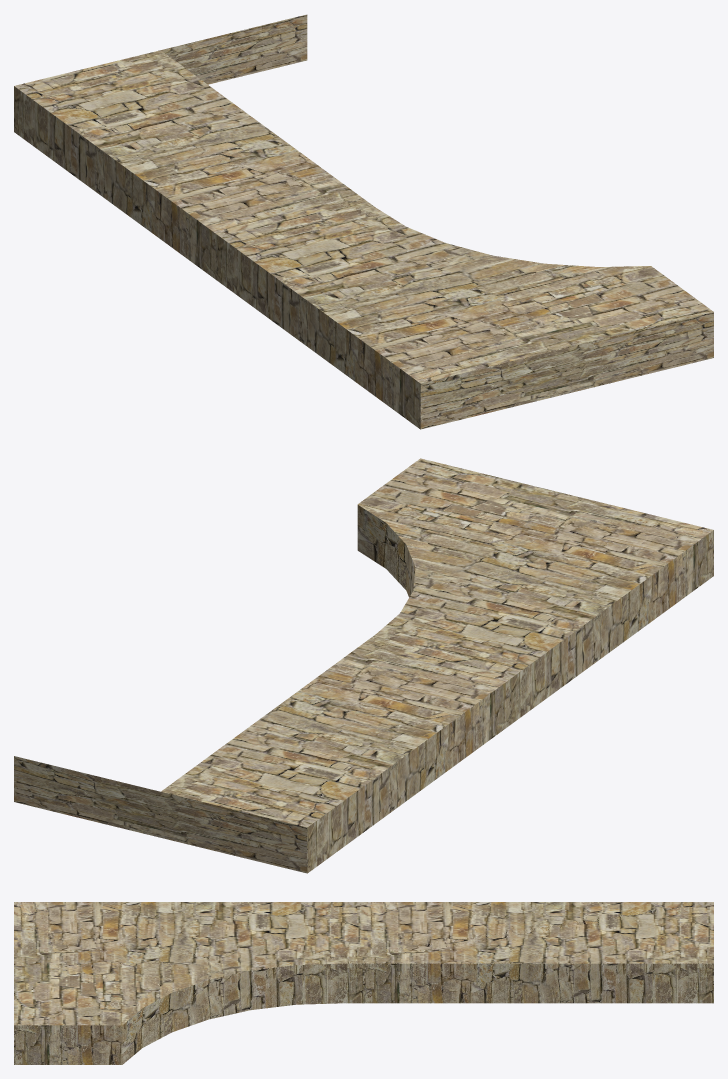
Rendered from walldoorR.obj.
3 renders of one model, top to bottom at view 1: azimuth 30°, elevation 25°; view 2: azimuth 150°, elevation 25°; view 3: azimuth 270°, elevation 25°, orthographic. The views are drawn at different scales.
Parts seen in each view (by area): view 1: Box096_Mesh.002; view 2: Box096_Mesh.002; view 3: Box096_Mesh.002.
Part boxes in pixels (<box>): Box096_Mesh.002: <box>14,14,713,429</box>; Box096_Mesh.002: <box>14,458,713,873</box>; Box096_Mesh.002: <box>14,902,713,1064</box>.
Size of the model in its own units: 1 by 0.15 by 2.4.
